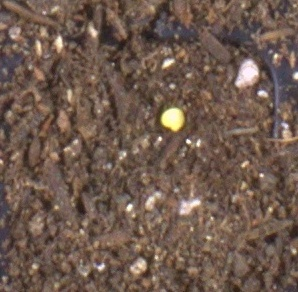chilli seed: (160, 107, 185, 132)
